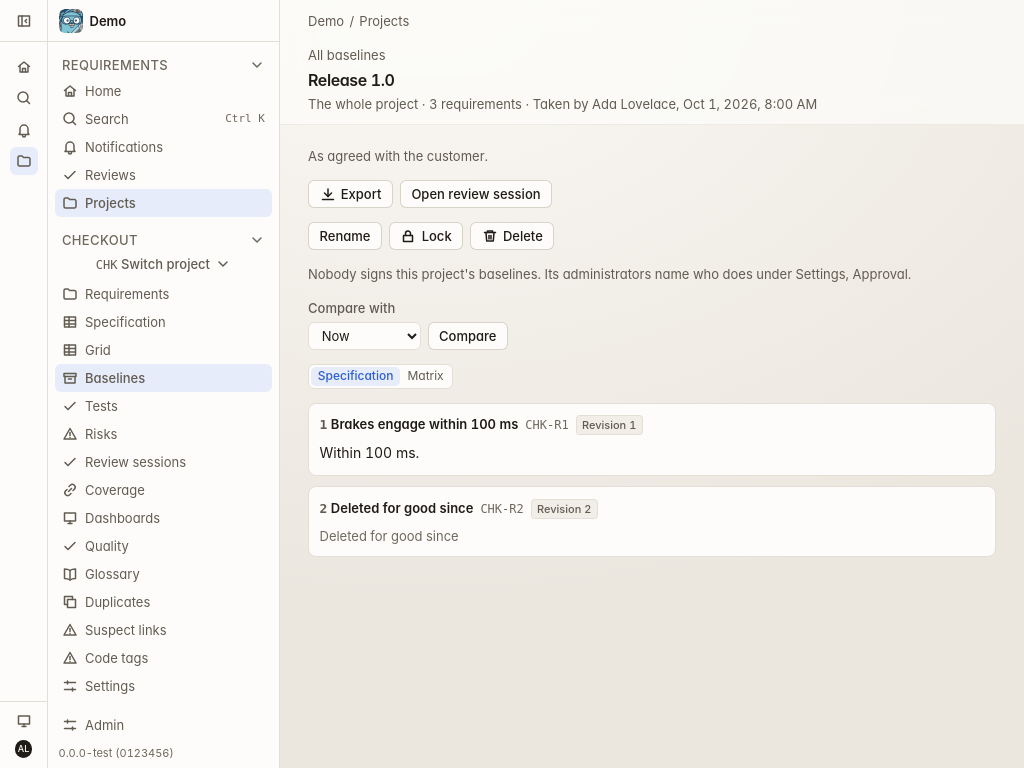
Test case: a baseline › says what a baseline taken before did not record
The image size is (1024, 768).
Step 1. Click the button "Matrix" → {"x": 426, "y": 376}, box [400,366,451,386]
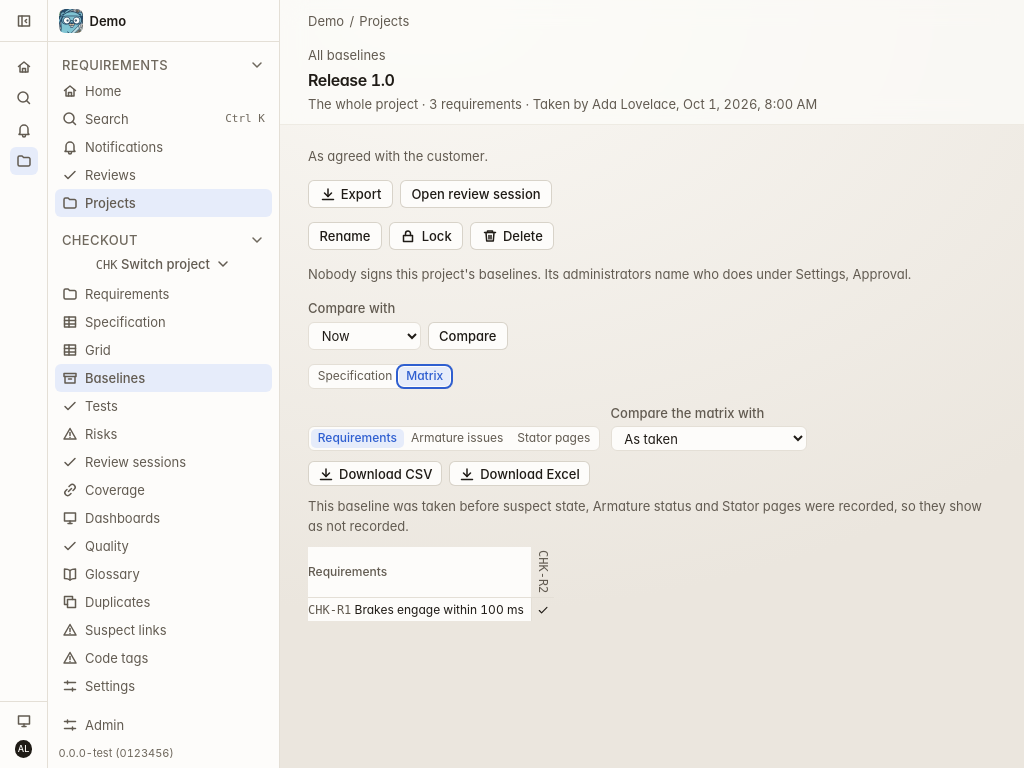
Expected: the text "was taken before suspect state, Armature status and Stator pages were recorded" is shown, [308,498,982,534]
